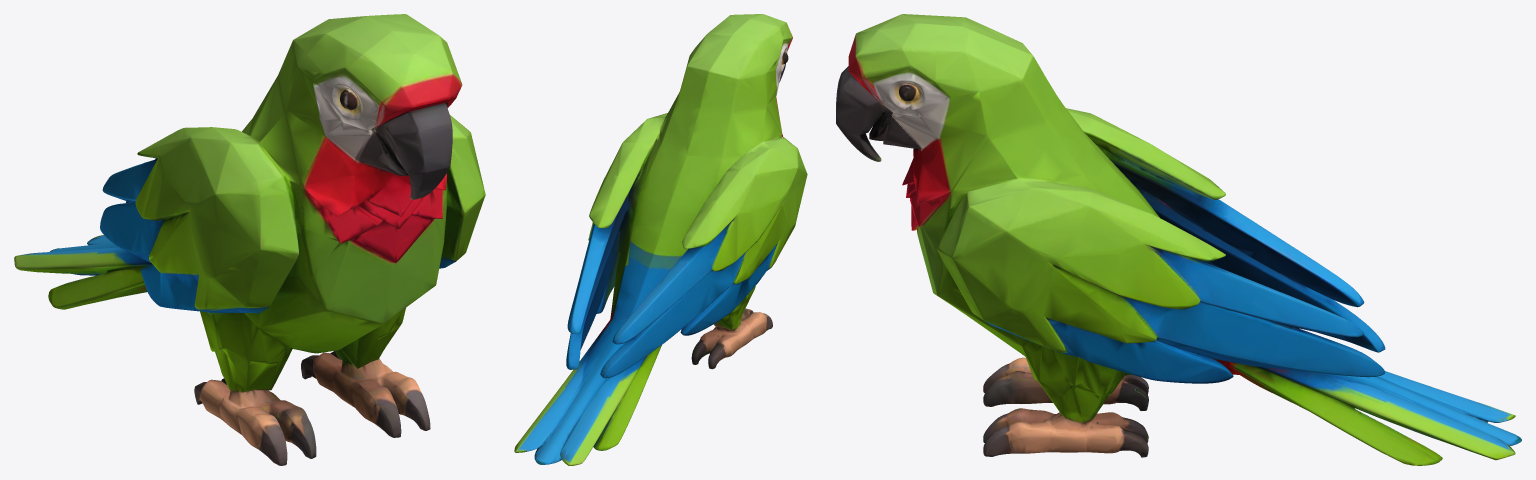
Rendered from parrot.glb.
3 views of the same model, side by side, from view 1: azimuth 30°, elevation 25°; view 2: azimuth 150°, elevation 25°; view 3: azimuth 270°, elevation 25° (orthographic). The views are drawn at different scales.
Visible parts, largest first — view 1: node_0; view 2: node_0; view 3: node_0.
Boxes of the visible parts, <box> form: node_0: <box>14,14,485,465</box>; node_0: <box>514,14,807,465</box>; node_0: <box>836,14,1521,465</box>.
Bounding box in the file's own units: 0.3937 × 0.6728 × 0.9975.
Materials: 1 (1 with a texture image).
